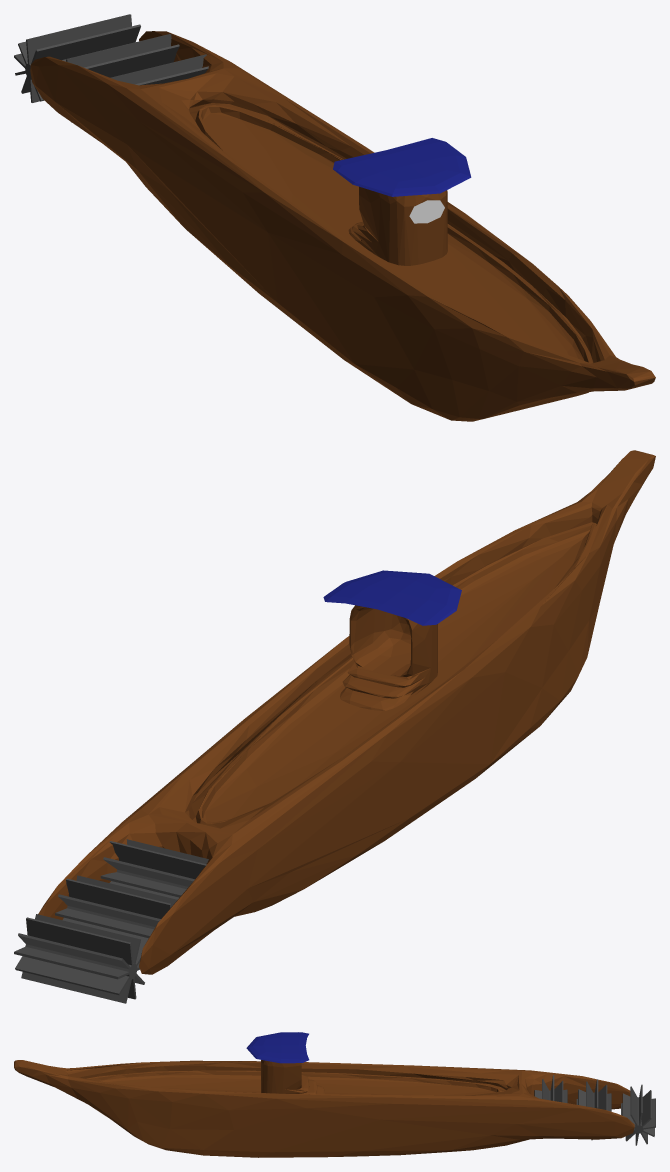
File: boat.fbx
3 views of the same model, one above another, from view 1: azimuth 30°, elevation 25°; view 2: azimuth 150°, elevation 25°; view 3: azimuth 270°, elevation 25° (orthographic). The views are drawn at different scales.
Visible parts, largest first — view 1: Cube.001, Cube.003, Cube.002, Cylinder, Cylinder.001, Cylinder.002, Cube.004; view 2: Cube.001, Cylinder, Cube.002, Cube.003, Cylinder.001, Cylinder.002; view 3: Cube.001, Cube.003, Cube.002, Cylinder, Cylinder.001, Cylinder.002.
Boxes of the visible parts, x1,y1,x2,y2 form: Cube.001: [30, 31, 655, 421]; Cube.003: [333, 138, 471, 196]; Cube.002: [348, 186, 447, 265]; Cylinder: [14, 14, 140, 102]; Cylinder.001: [65, 34, 179, 122]; Cylinder.002: [110, 54, 208, 85]; Cube.004: [409, 200, 444, 223]; Cube.001: [38, 450, 655, 974]; Cylinder: [14, 914, 144, 1003]; Cube.002: [340, 605, 437, 710]; Cube.003: [323, 570, 461, 625]; Cylinder.001: [55, 875, 177, 945]; Cylinder.002: [100, 839, 208, 899]; Cube.001: [14, 1060, 634, 1157]; Cube.003: [246, 1032, 309, 1063]; Cube.002: [261, 1060, 324, 1094]; Cylinder: [621, 1084, 655, 1145]; Cylinder.001: [576, 1079, 611, 1140]; Cylinder.002: [534, 1075, 567, 1103].
Size of the model in its own units: 272 by 340 by 2020.
